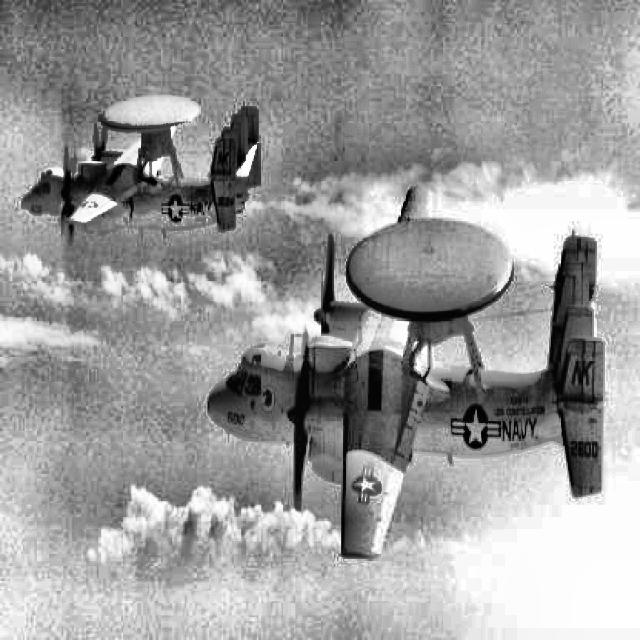E2: (206, 182, 606, 562), (20, 96, 260, 247)
